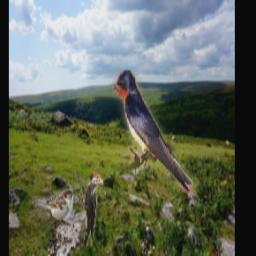Sparrow: (36, 189, 74, 227)
Swallow: (112, 70, 199, 193)
Woodpecker: (79, 172, 103, 247)
